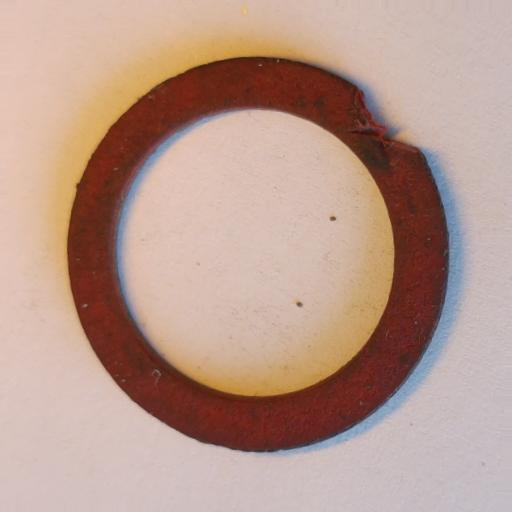defect: (355, 89, 422, 153)
